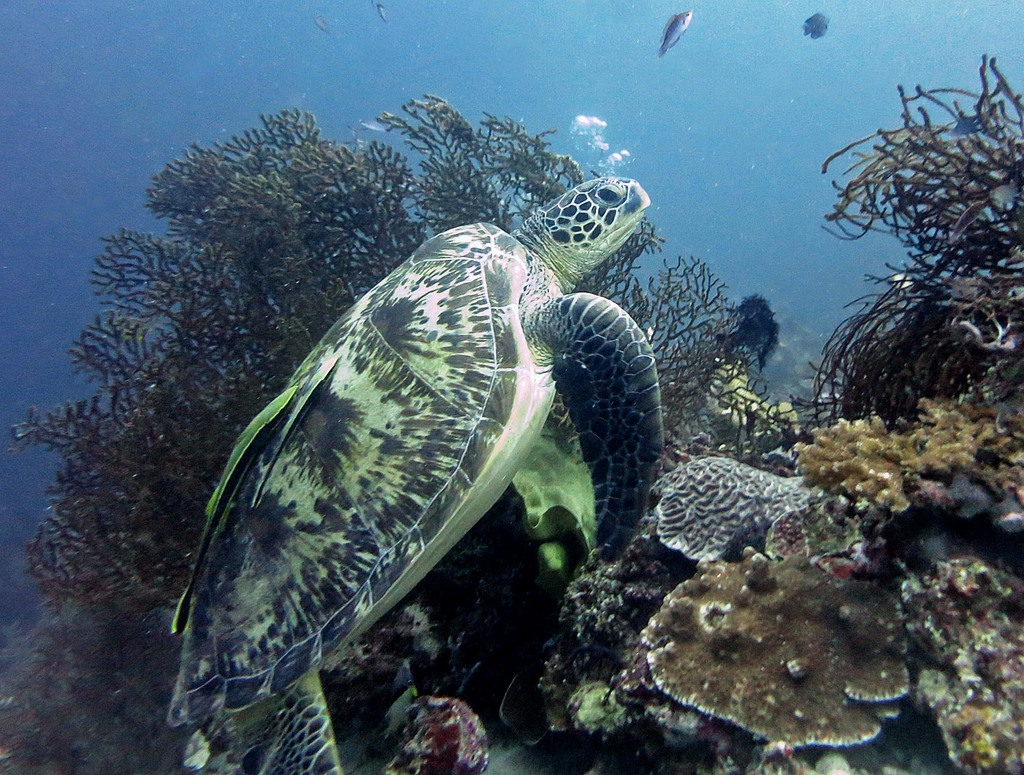Sea turtles: (166, 165, 673, 774)
